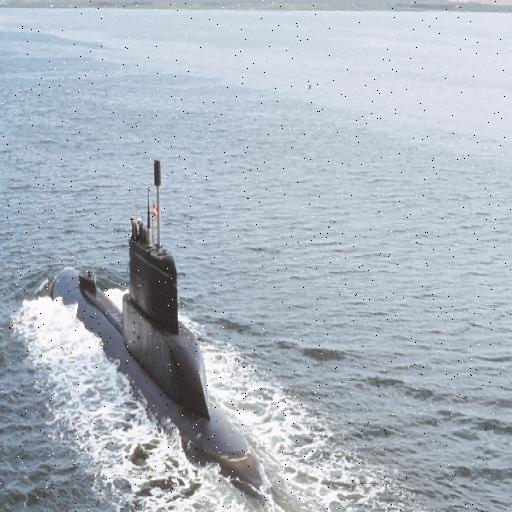submarine: (44, 241, 274, 508)
